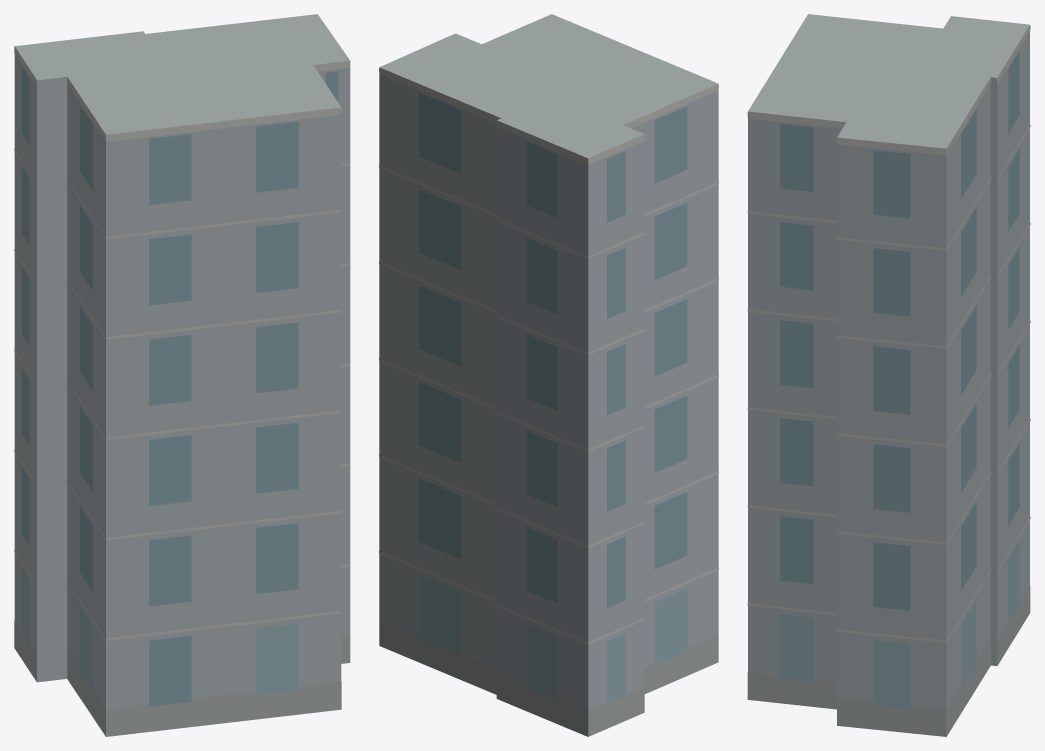
The model's file is survey-upis-32685287.glb.
3 views of the same model, side by side, from view 1: azimuth 30°, elevation 25°; view 2: azimuth 150°, elevation 25°; view 3: azimuth 270°, elevation 25° (orthographic). The views are drawn at different scales.
Visible parts, largest first — view 1: survey-upis-32685287.tmp; view 2: survey-upis-32685287.tmp; view 3: survey-upis-32685287.tmp.
Boxes of the visible parts, <box> form: survey-upis-32685287.tmp: <box>14,14,350,736</box>; survey-upis-32685287.tmp: <box>379,14,718,736</box>; survey-upis-32685287.tmp: <box>747,14,1030,736</box>.
Size of the model in its own units: 10.19 by 20.7 by 9.03.
